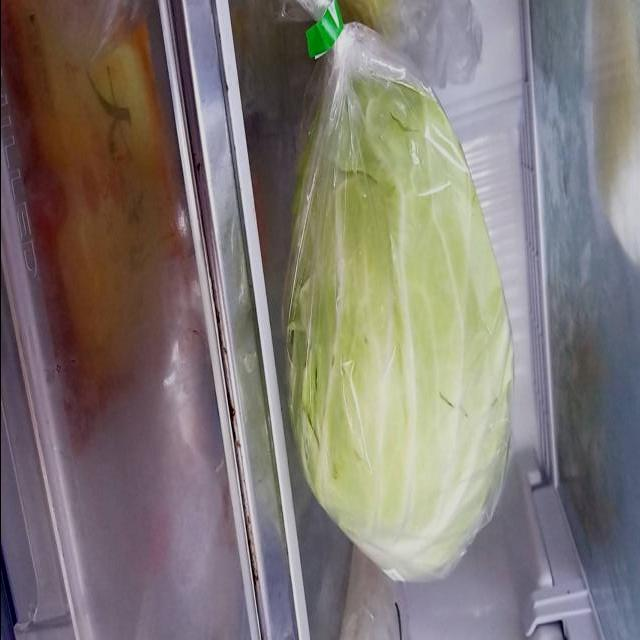cabbage: (290, 29, 515, 593)
